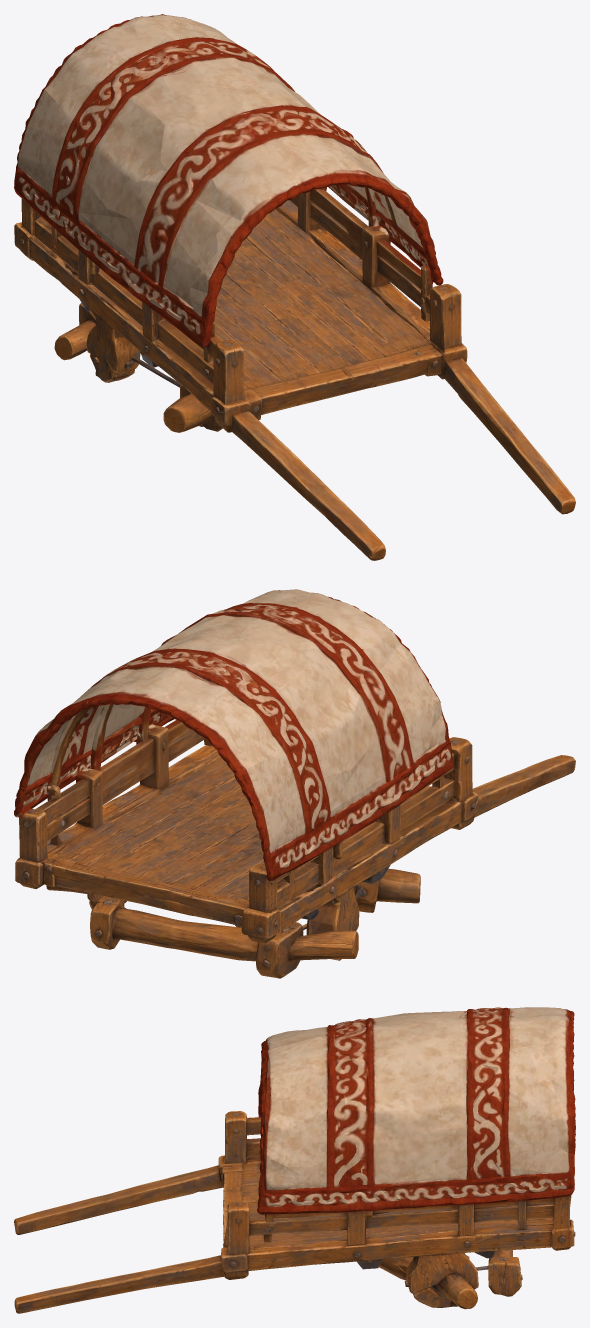
The model's file is cart_felt.glb.
3 renders of one model, top to bottom at view 1: azimuth 30°, elevation 25°; view 2: azimuth 150°, elevation 25°; view 3: azimuth 270°, elevation 25°, orthographic. The views are drawn at different scales.
Bounding box in the file's own units: 1.97 × 1.85 × 3.77.
1 material, 1 textured.
